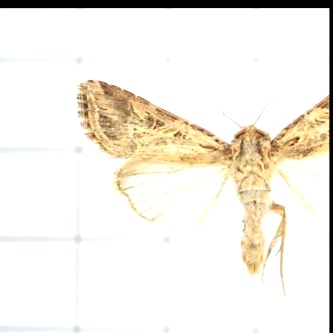Spodoptera litura: (75, 72, 329, 297)
